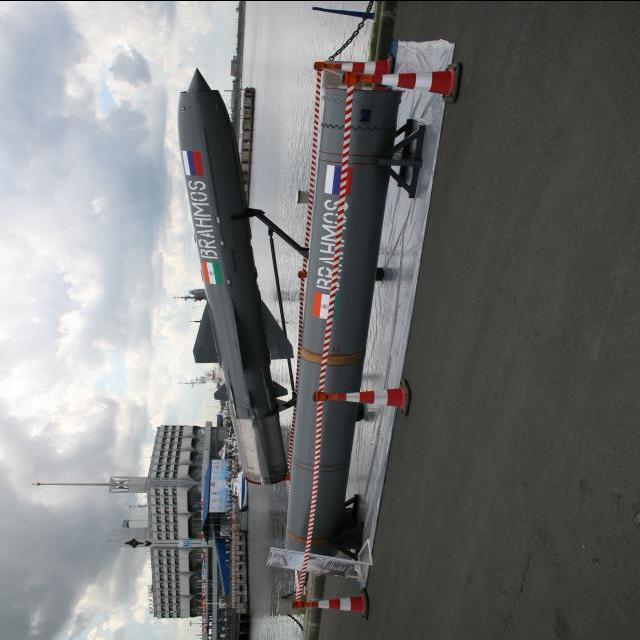missile: (174, 67, 303, 486)
